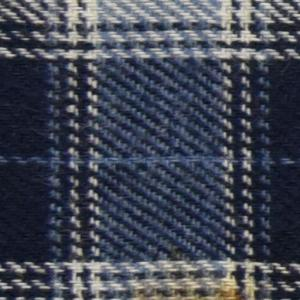Oil Stain: (129, 242, 269, 300)
